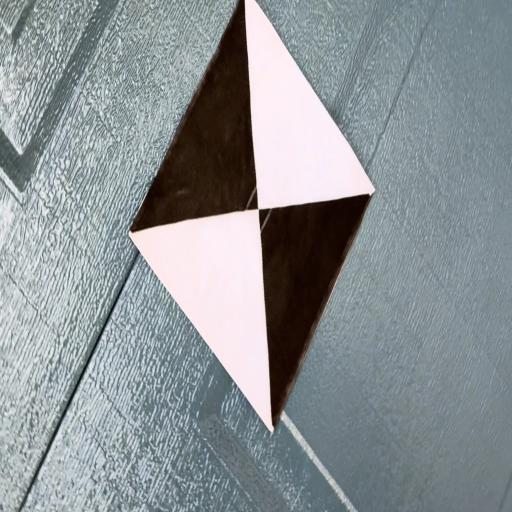target: (128, 0, 375, 436)
